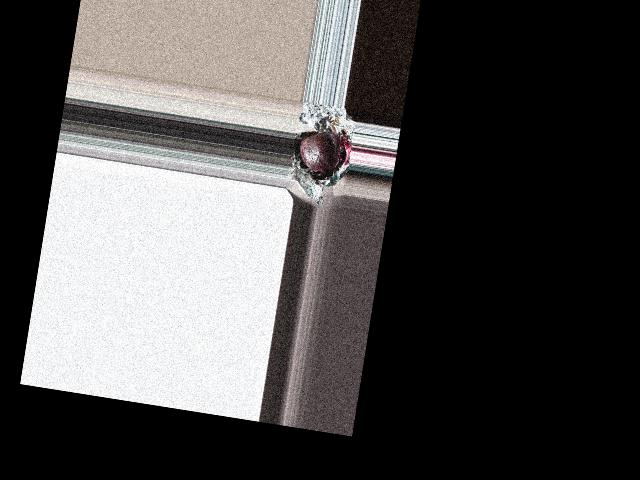beet: (296, 126, 342, 174)
